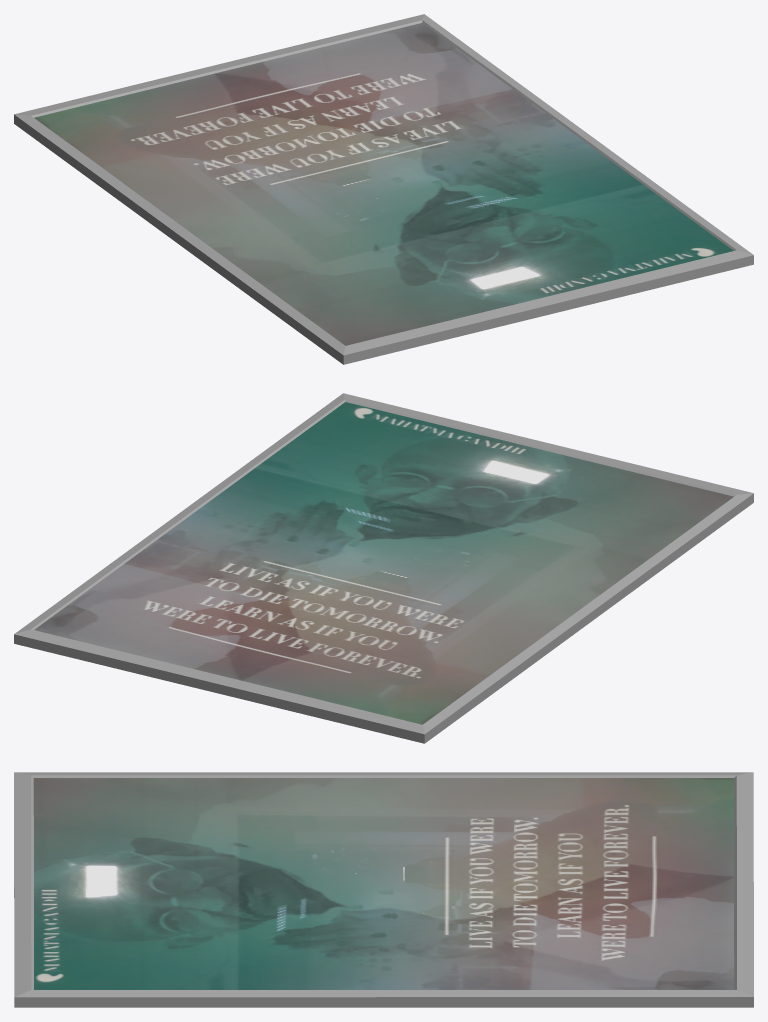
File: p1_mahatma_gandhi.dae
3 views of the same model, one above another, from view 1: azimuth 30°, elevation 25°; view 2: azimuth 150°, elevation 25°; view 3: azimuth 270°, elevation 25° (orthographic). The views are drawn at different scales.
Visible parts, largest first — view 1: Circle_001, Circle; view 2: Circle_001, Circle; view 3: Circle_001, Circle.
Boxes of the visible parts, left/top/right/bottom form: Circle_001: left=34, top=23, right=733, bottom=345; Circle: left=14, top=14, right=753, bottom=364; Circle_001: left=34, top=402, right=733, bottom=724; Circle: left=14, top=393, right=753, bottom=743; Circle_001: left=33, top=778, right=734, bottom=989; Circle: left=14, top=772, right=753, bottom=1007.
Size of the model in its own units: 44.02 by 61.19 by 1.14.
Materials: 2 (1 with a texture image).
